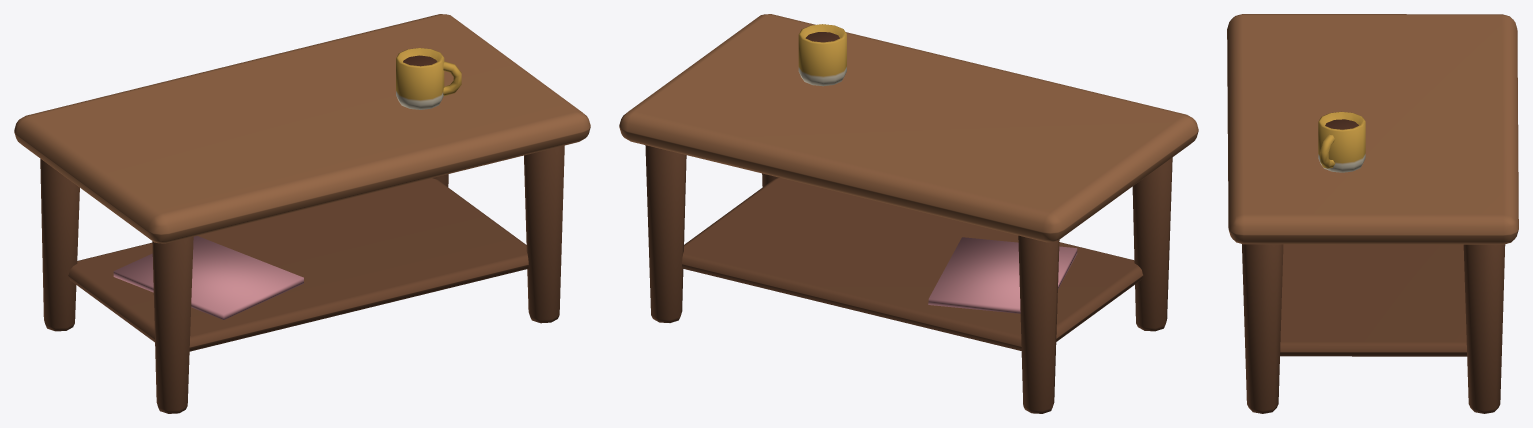
Rendered from coffee_table.glb.
3 views of the same model, side by side, from view 1: azimuth 30°, elevation 25°; view 2: azimuth 150°, elevation 25°; view 3: azimuth 270°, elevation 25° (orthographic).
Visible parts, largest first — view 1: coffee_table, mug; view 2: coffee_table, mug; view 3: coffee_table, mug.
Boxes of the visible parts, left/top/right/bottom form: coffee_table: left=14, top=14, right=590, bottom=413; mug: left=396, top=48, right=461, bottom=109; coffee_table: left=619, top=14, right=1198, bottom=413; mug: left=798, top=24, right=846, bottom=86; coffee_table: left=1227, top=14, right=1518, bottom=413; mug: left=1318, top=111, right=1365, bottom=172.
Size of the model in its own units: 0.9512 by 0.52 by 0.5527.
